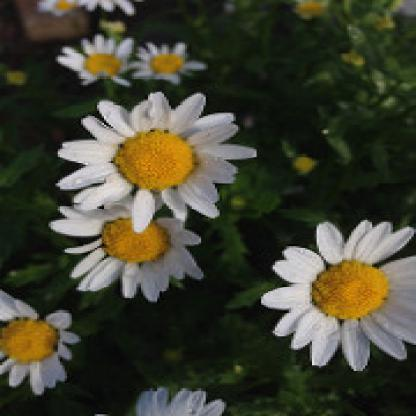ASTER: (10, 7, 403, 409)
